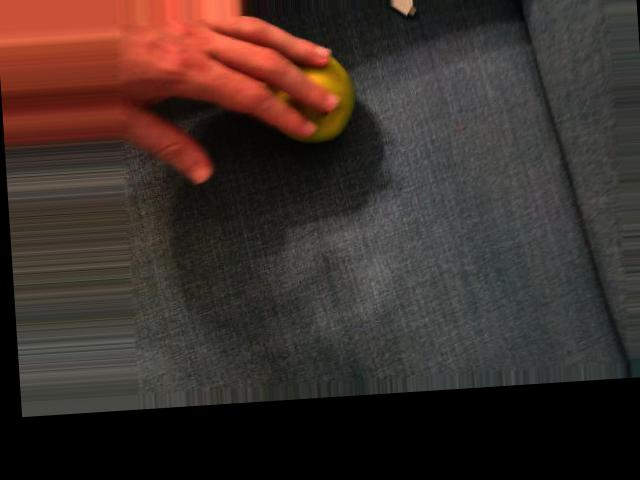apple: (250, 44, 374, 154)
